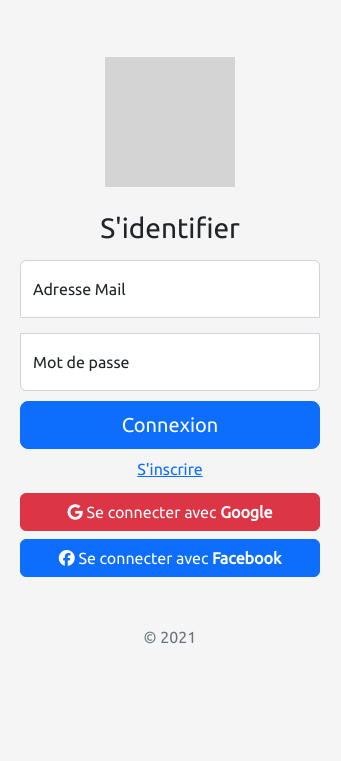
Test: Firebase Login › should show error if inputs is empty
This screenshot has width=341, height=761.
Click the button "Connexion" at (170, 425), box [20,401,320,449]
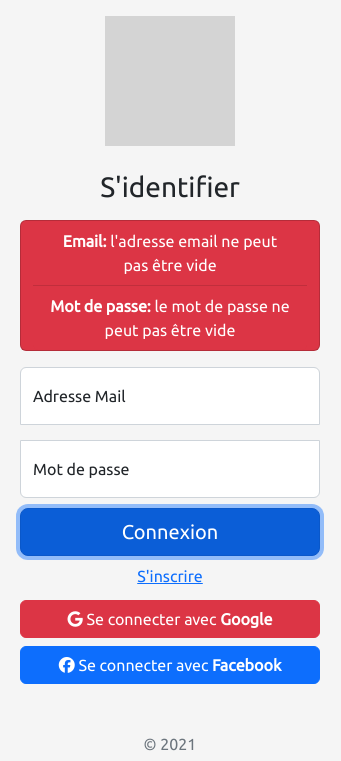
Now the list item "Email: l'adresse email ne peut pas être vide" is shown, box [33,221,307,286]
